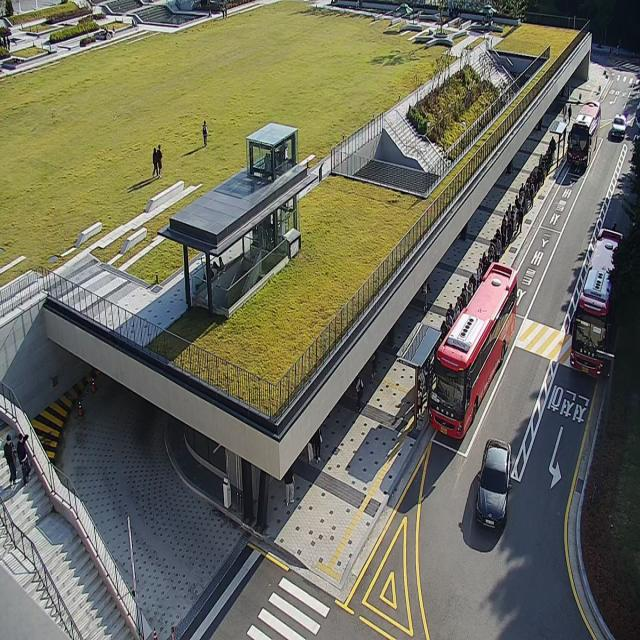queue: (414, 136, 556, 432)
